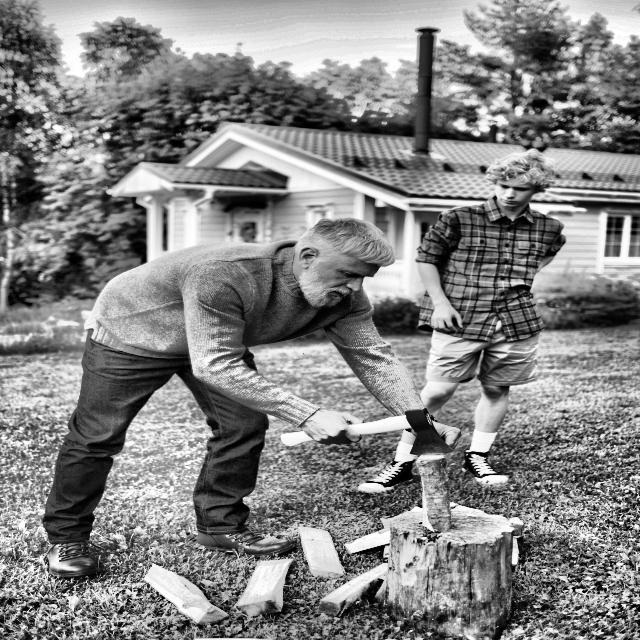kapak: (256, 402, 477, 465)
